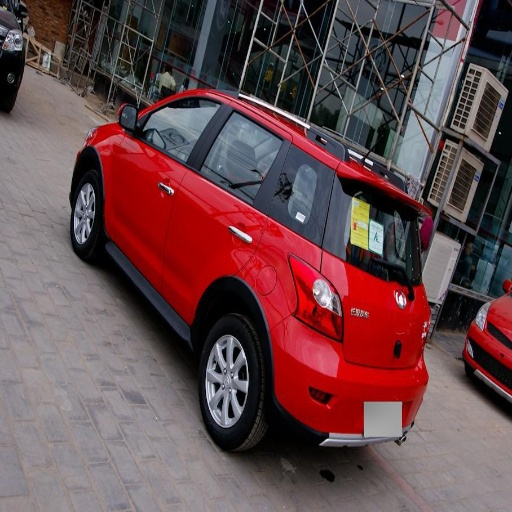back_left_door: (174, 164, 211, 216)
back_left_light: (294, 278, 341, 339)
trunk: (323, 251, 418, 366)
